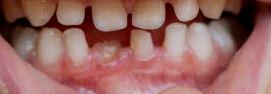Hypodontia: (82, 35, 133, 55)
